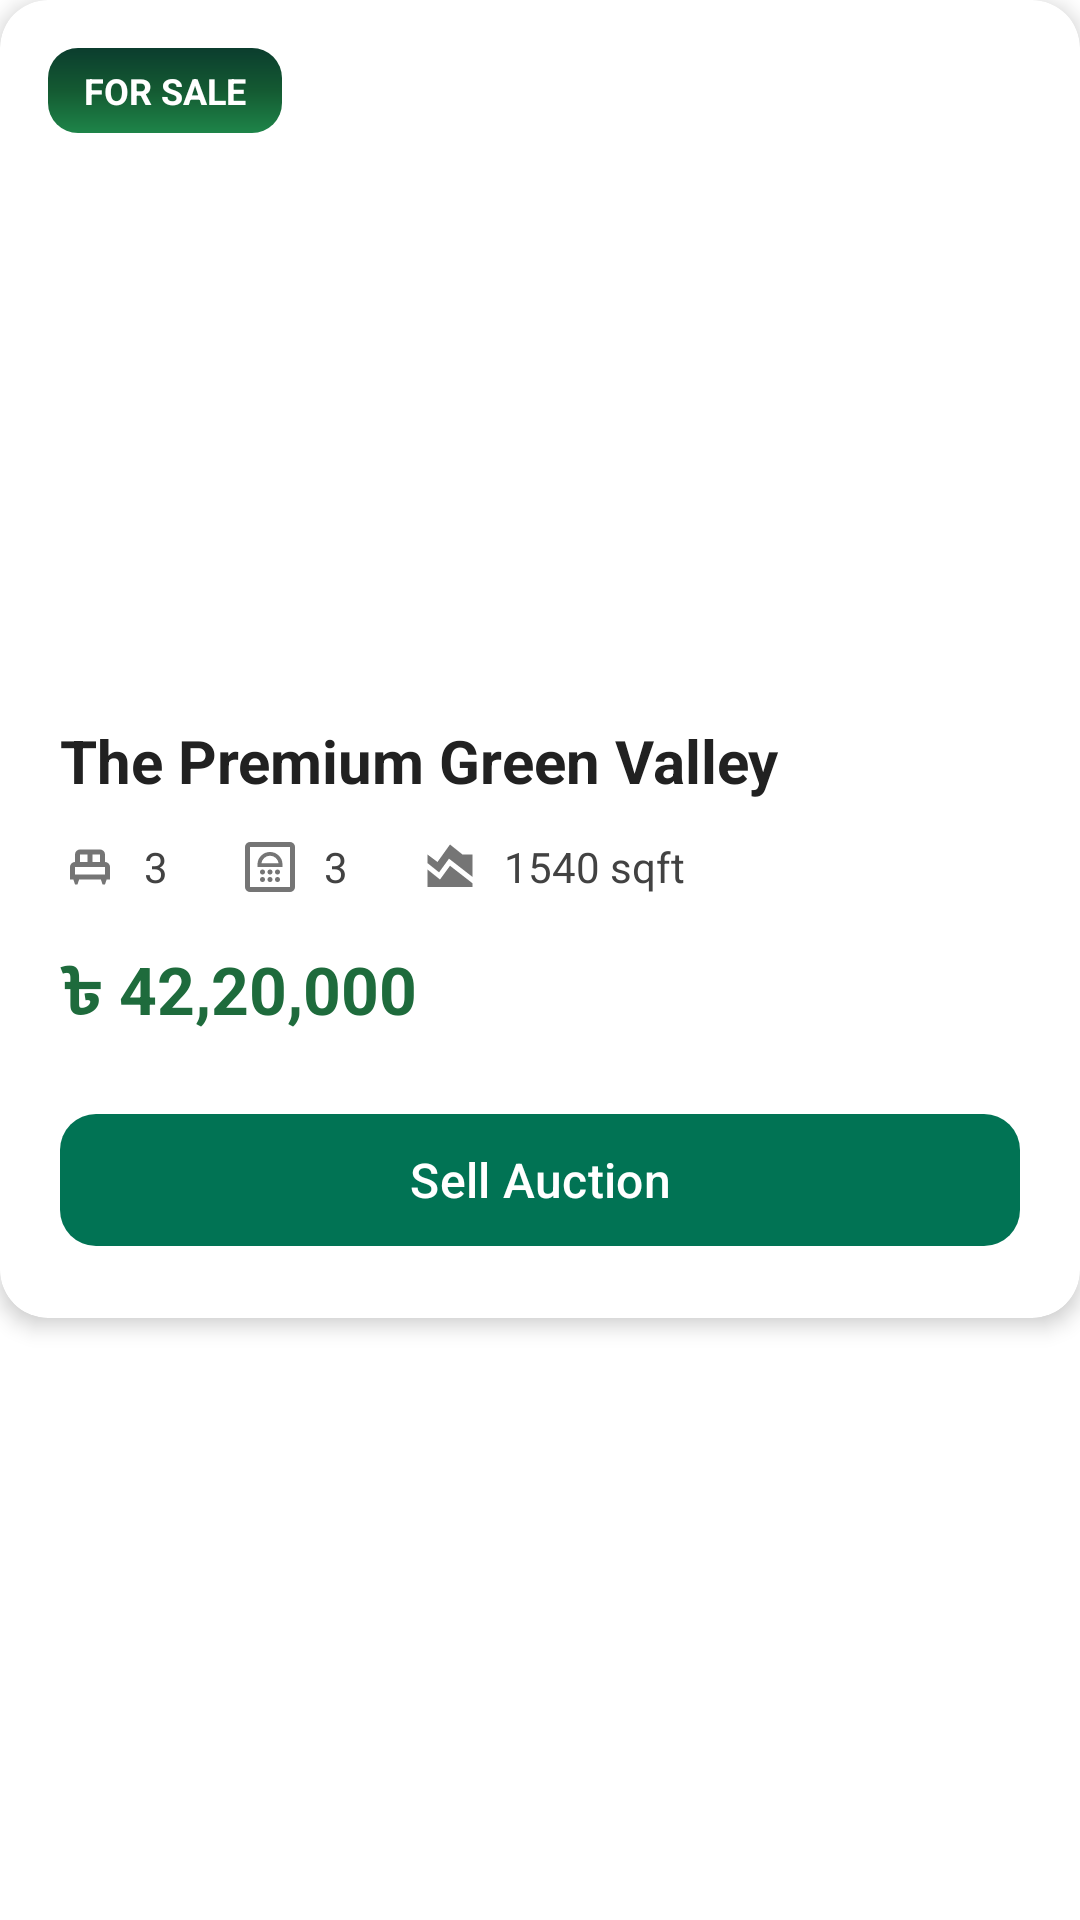

Named icons in this screenshot (1080 × 1920) and their bounding boxes, (x1, y1, x2, y2):
area: (427, 844, 473, 887)
bathroom: (245, 842, 295, 892)
bed: (70, 849, 110, 885)
